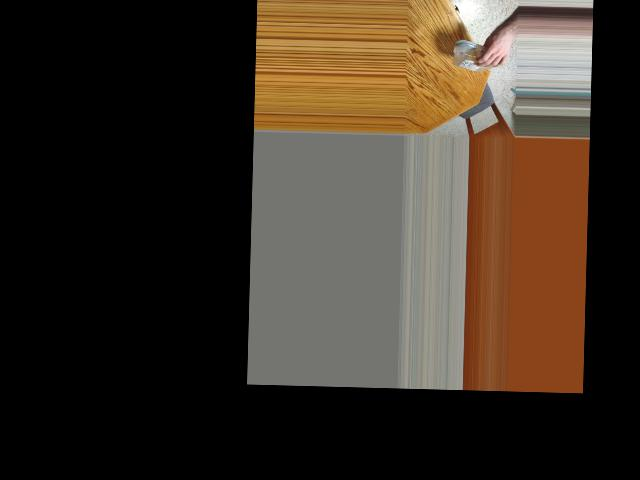cheese: (461, 36, 505, 73)
